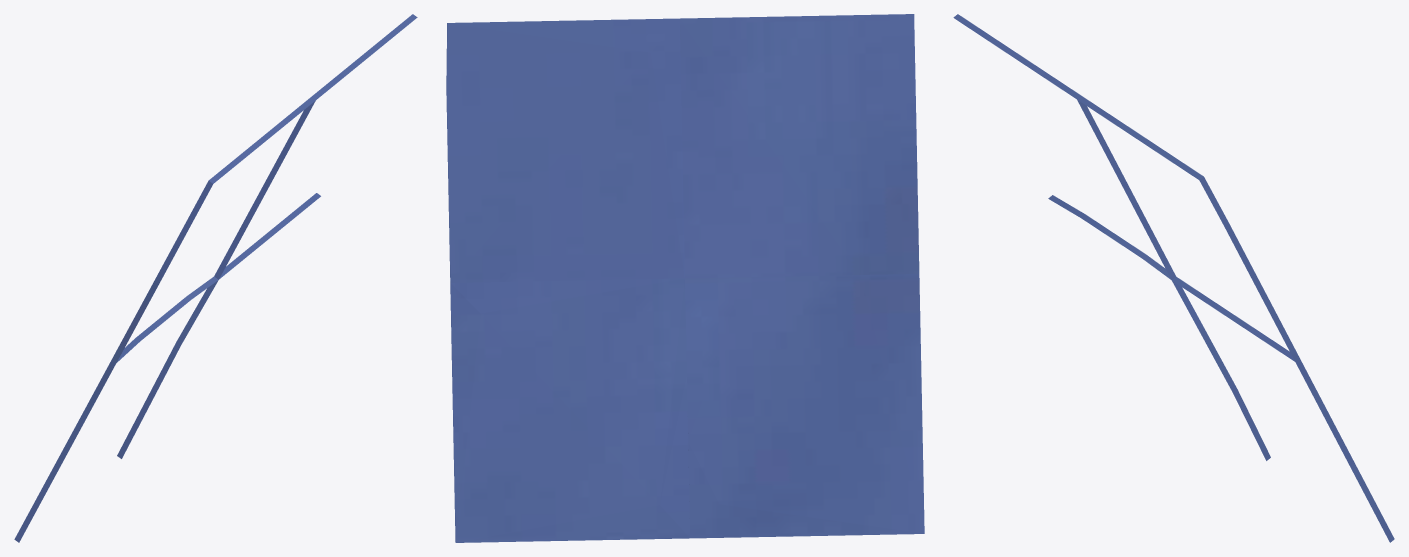
3 renders of one model, left to right at view 1: azimuth 30°, elevation 25°; view 2: azimuth 150°, elevation 25°; view 3: azimuth 270°, elevation 25°, orthographic. The views are drawn at different scales.
Size of the model in its own units: 19633 by 17686 by 17029.
Materials: 1 (1 with a texture image).
